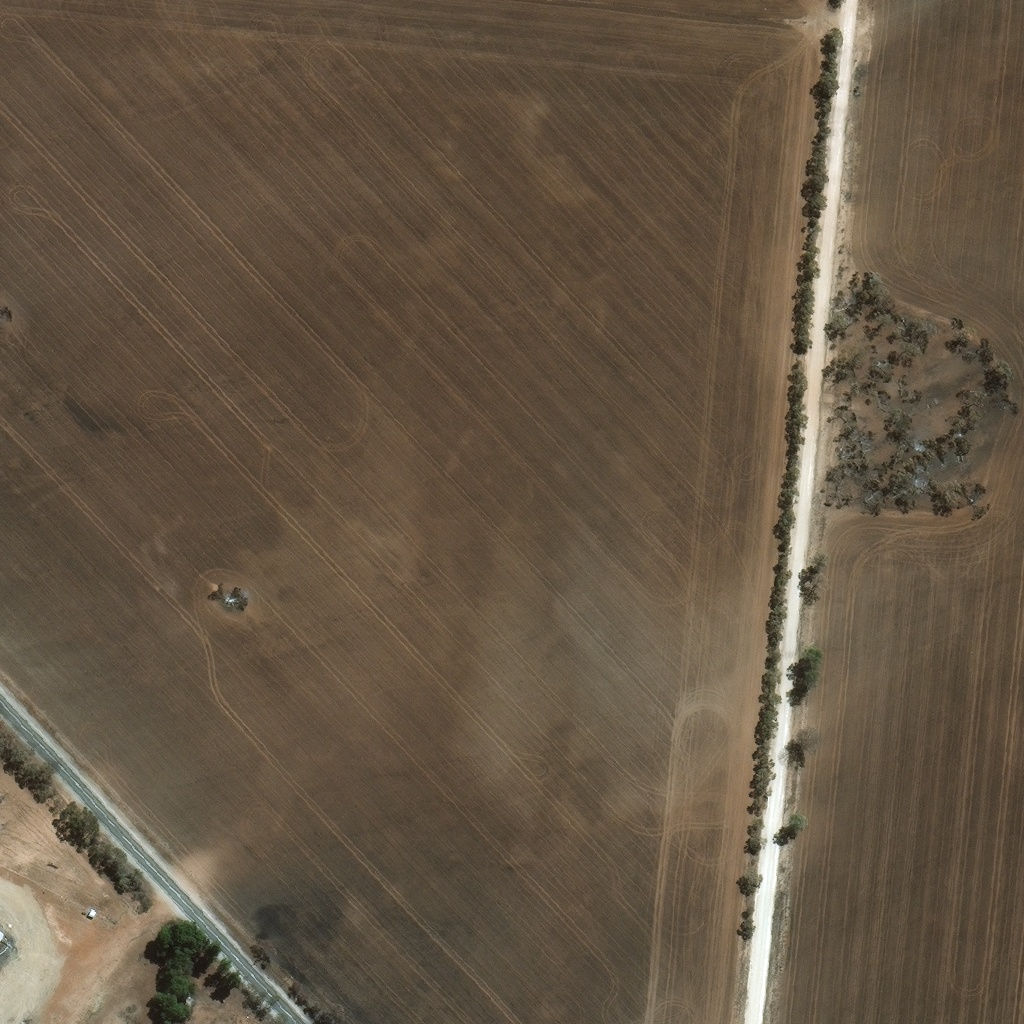4 un-classified: (0, 853, 6, 863), (95, 984, 103, 991)
